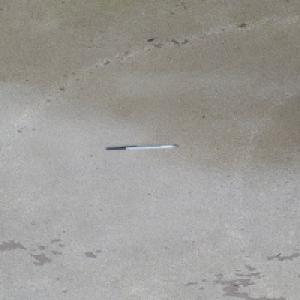Pen: (104, 144, 178, 150)
